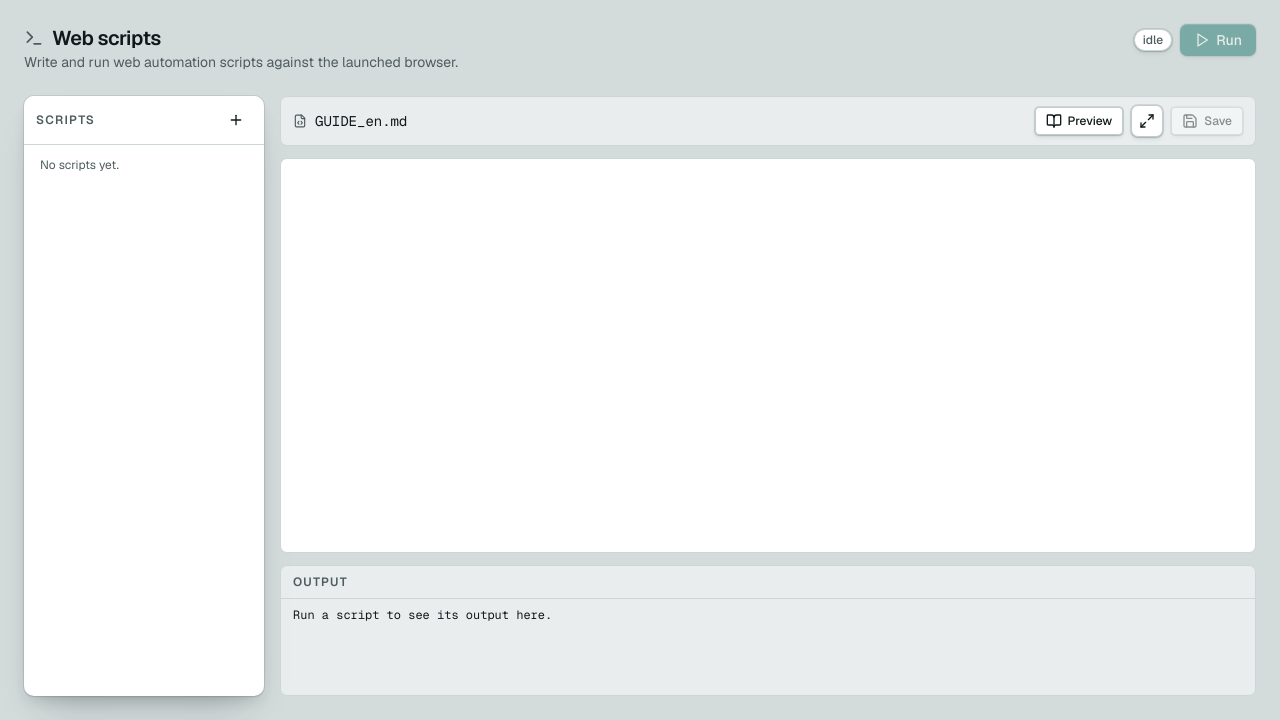
Test: CodeEditor — a markdown file can be read as a document › renders headings and GFM tables instead of the source
The image size is (1280, 720).
Click the button with test id "editor-preview-toggle" at x=1079, y=121, box [1034, 107, 1123, 135]
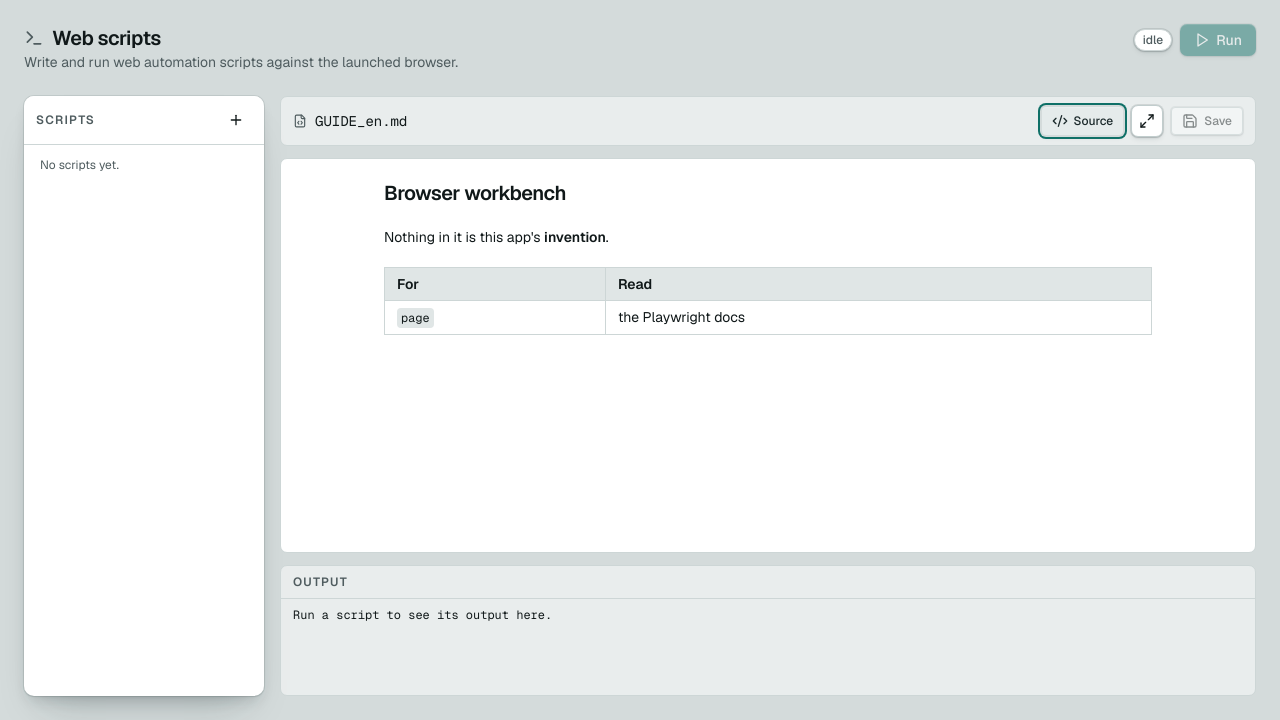
Now the heading "Browser workbench" is shown, box [384, 180, 566, 206]
Now the table is shown, box [384, 267, 1152, 335]
Now the column heading "For" is shown, box [384, 268, 605, 300]
